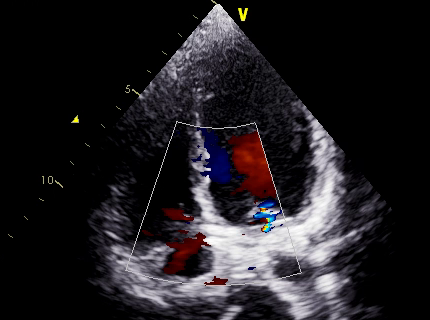MR: (222, 165, 306, 260)
